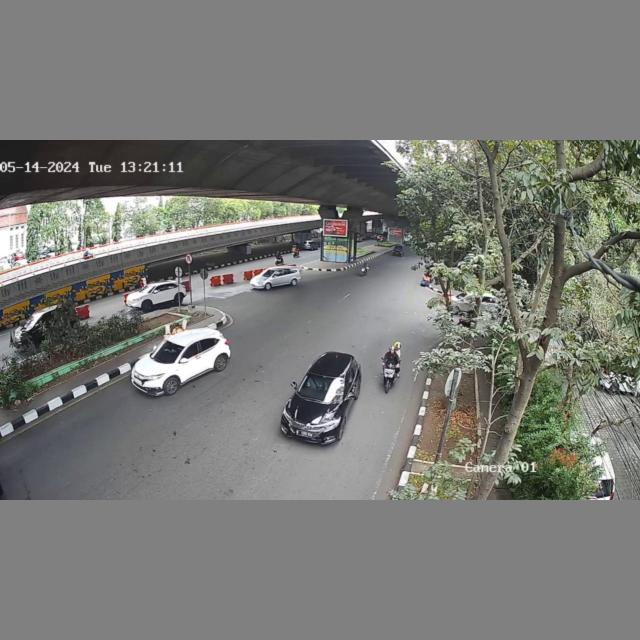windshield: (297, 373, 344, 404), (152, 342, 185, 361)
